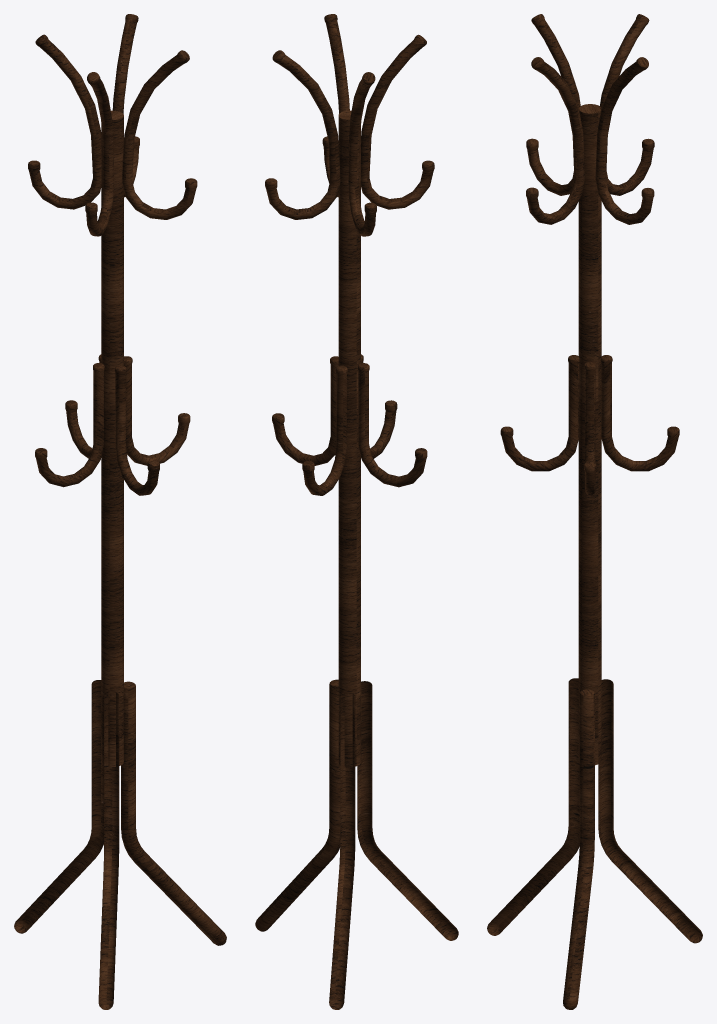
Rendered from Coathanger.fbx.
3 renders of one model, left to right at view 1: azimuth 30°, elevation 25°; view 2: azimuth 150°, elevation 25°; view 3: azimuth 270°, elevation 25°, orthographic.
Visible parts, largest first — view 1: Cylinder.003; view 2: Cylinder.003; view 3: Cylinder.003.
Part boxes in pixels (bbox=[...]): Cylinder.003: bbox=[14, 14, 226, 1009]; Cylinder.003: bbox=[255, 14, 458, 1009]; Cylinder.003: bbox=[487, 14, 702, 1009].
Bounding box in the file's own units: 46.17 × 225 × 47.55.
1 material, 1 textured.
